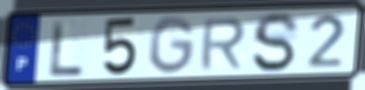2: (306, 13, 348, 70)
5: (102, 16, 138, 77)
G: (148, 14, 198, 77)
L: (49, 18, 86, 80)
R: (198, 16, 249, 72)
S: (250, 10, 302, 74)
